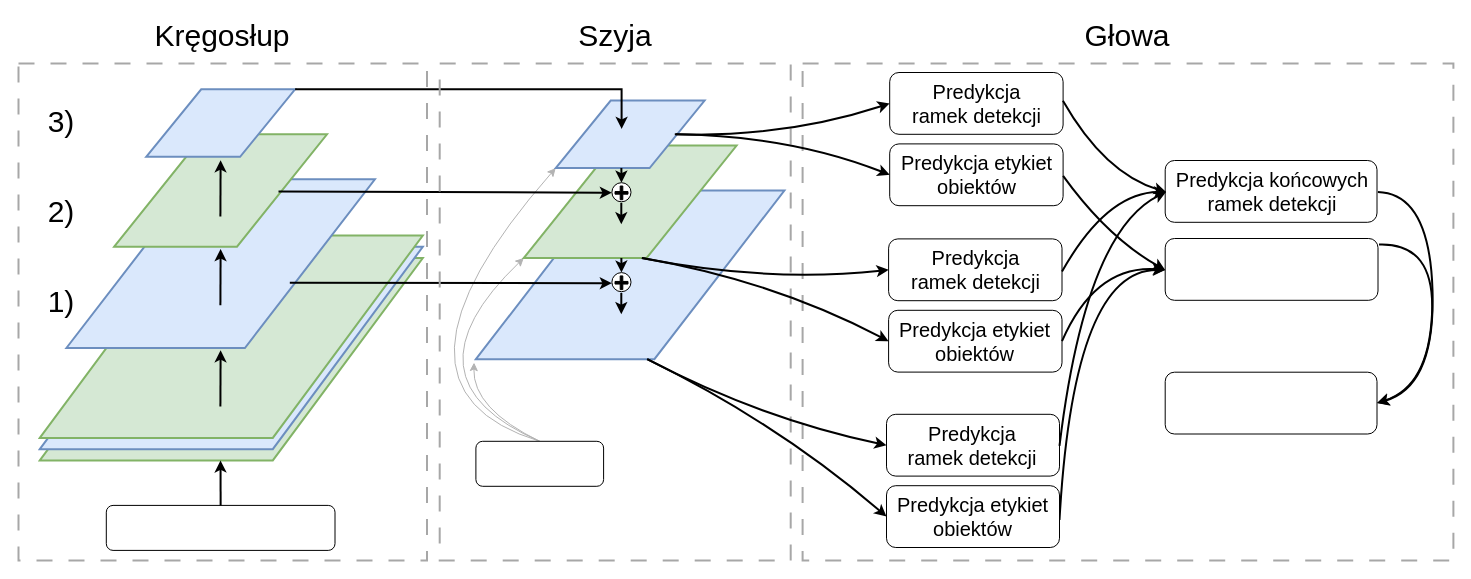
The diagram is 1471 pixels wide and 579 high, and some of its shapes have lost their labels. Each missing label, with the centre of its shape:
Mapy cech: the point at 539,463
Obraz wejściowy: the point at 220,527
Predykcja końcowych etykiet obiektów: the point at 1271,269
Predykcja ramek kandydujących: the point at 1270,402
